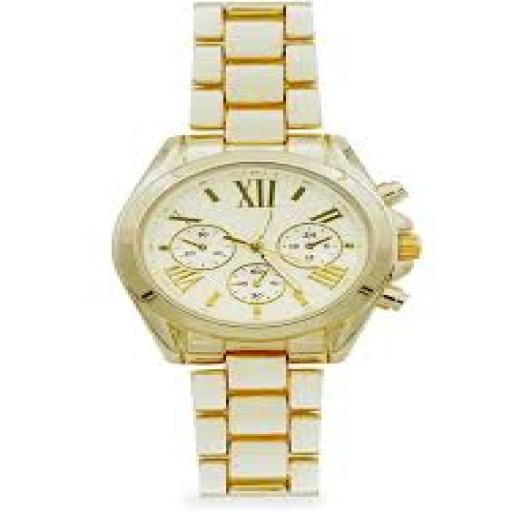KolSaati: (98, 0, 436, 506)
